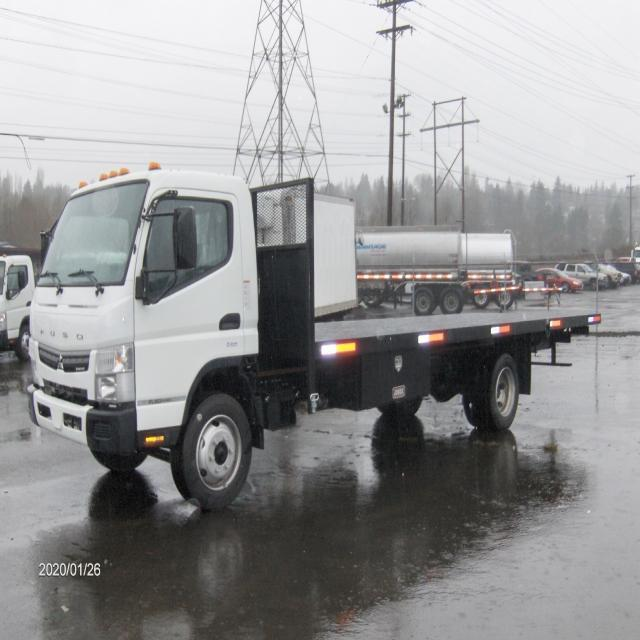truck: (28, 167, 601, 510)
